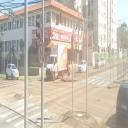NoVirarU: (38, 39, 45, 66)
